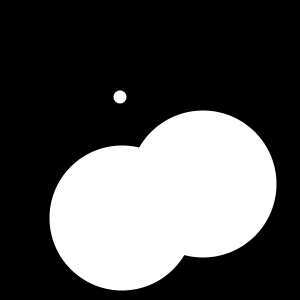rectangle: (130, 110, 276, 258), (50, 146, 194, 290), (206, 136, 240, 170), (114, 90, 126, 103)
